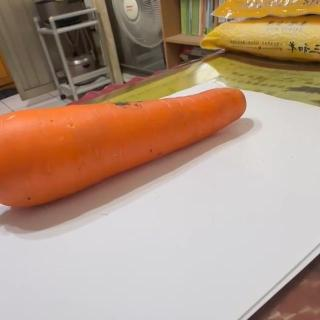carrot: (0, 86, 248, 210)
